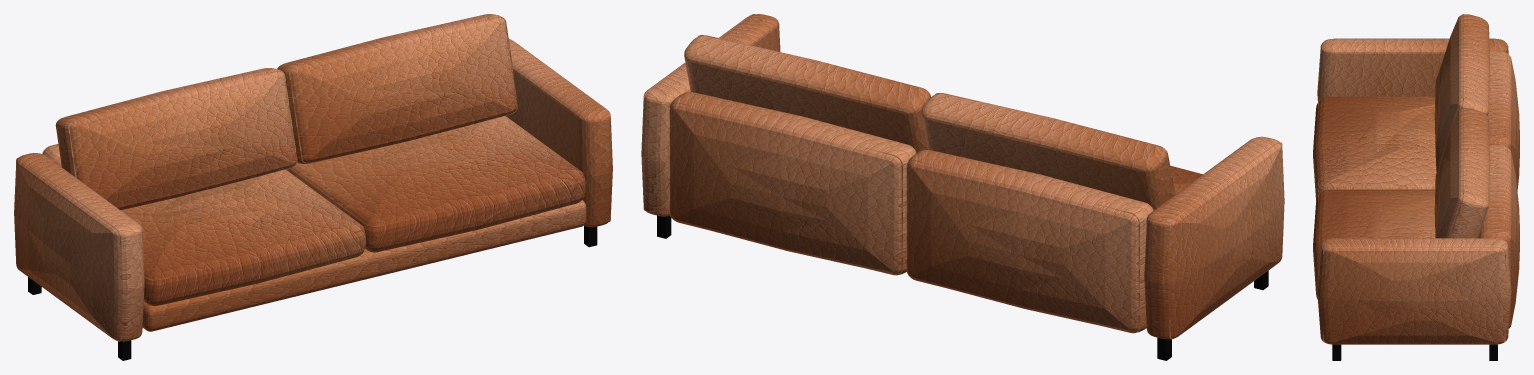
The model's file is Sofa.obj.
The picture shows the model from 3 angles, left to right: view 1: azimuth 30°, elevation 25°; view 2: azimuth 150°, elevation 25°; view 3: azimuth 270°, elevation 25°; orthographic projection. The views are drawn at different scales.
Visible parts, largest first — view 1: KARLSTAD_Cube_81, KARLSTAD_Cube_7, KARLSTAD_Cube_1, KARLSTAD_Cube7, KARLSTAD_Cube_2, KARLSTAD_Cube_4, KARLSTAD_Cube_3, KARLSTAD_Cube_81_Cube8; view 2: KARLSTAD_Cube_5, KARLSTAD_Cube_6, KARLSTAD_Cube_2, KARLSTAD_Cube_7, KARLSTAD_Cube_81, KARLSTAD_Cube_3, KARLSTAD_Cube_6_Cube, KARLSTAD_Cube_5_Cube4; view 3: KARLSTAD_Cube_3, KARLSTAD_Cube7, KARLSTAD_Cube_2, KARLSTAD_Cube_1, KARLSTAD_Cube_81, KARLSTAD_Cube_7, KARLSTAD_Cube_6, KARLSTAD_Cube_5, KARLSTAD_Cube_3_Cube1, KARLSTAD_Cube7_Cube6.
Part boxes in pixels (box(x1,y1,x2,y2)): KARLSTAD_Cube_81: box(277, 14, 517, 163); KARLSTAD_Cube_7: box(55, 68, 296, 210); KARLSTAD_Cube_1: box(286, 116, 585, 252); KARLSTAD_Cube7: box(121, 169, 365, 306); KARLSTAD_Cube_2: box(14, 153, 144, 341); KARLSTAD_Cube_4: box(142, 200, 586, 331); KARLSTAD_Cube_3: box(506, 39, 612, 227); KARLSTAD_Cube_81_Cube8: box(289, 17, 517, 163); KARLSTAD_Cube_5: box(907, 150, 1153, 332); KARLSTAD_Cube_6: box(670, 92, 916, 274); KARLSTAD_Cube_2: box(1144, 136, 1284, 339); KARLSTAD_Cube_7: box(921, 93, 1174, 210); KARLSTAD_Cube_81: box(684, 35, 930, 152); KARLSTAD_Cube_3: box(641, 14, 780, 216); KARLSTAD_Cube_6_Cube: box(669, 102, 902, 275); KARLSTAD_Cube_5_Cube4: box(906, 160, 1139, 333); KARLSTAD_Cube_3: box(1317, 238, 1511, 344); KARLSTAD_Cube7: box(1313, 96, 1436, 200); KARLSTAD_Cube_2: box(1317, 39, 1508, 101); KARLSTAD_Cube_1: box(1313, 190, 1435, 299); KARLSTAD_Cube_81: box(1434, 108, 1489, 238); KARLSTAD_Cube_7: box(1434, 14, 1489, 172); KARLSTAD_Cube_6: box(1478, 145, 1519, 328); KARLSTAD_Cube_5: box(1487, 51, 1519, 190); KARLSTAD_Cube_3_Cube1: box(1323, 247, 1505, 344); KARLSTAD_Cube7_Cube6: box(1318, 99, 1435, 190).
Size of the model in its own units: 179 by 60.13 by 71.61.
3 materials, 2 textured.
